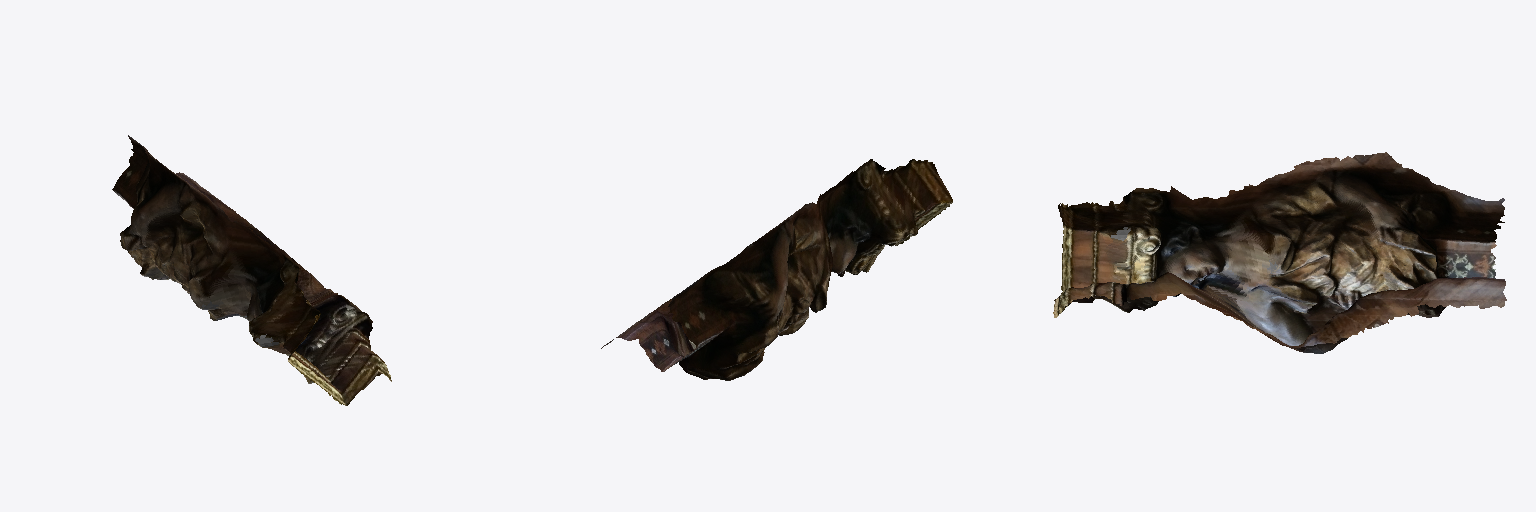
3 views of the same model, side by side, from view 1: azimuth 30°, elevation 25°; view 2: azimuth 150°, elevation 25°; view 3: azimuth 270°, elevation 25° (orthographic).
Bounding box in the file's own units: 8.83 × 8.48 × 22.67.
3 materials, 2 textured.